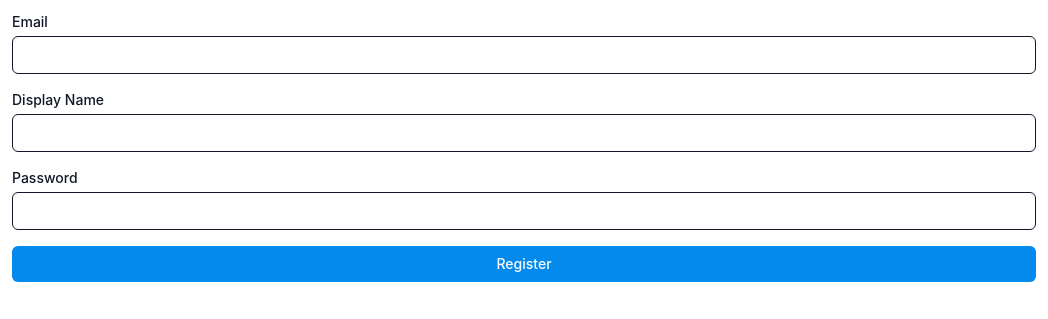
RegisterForm › shows error when password does not meet policy
Type "test@epam.com" into the field labelled "Email".
click(524, 55); type("test@epam.com")  # box [12,36,1036,74]
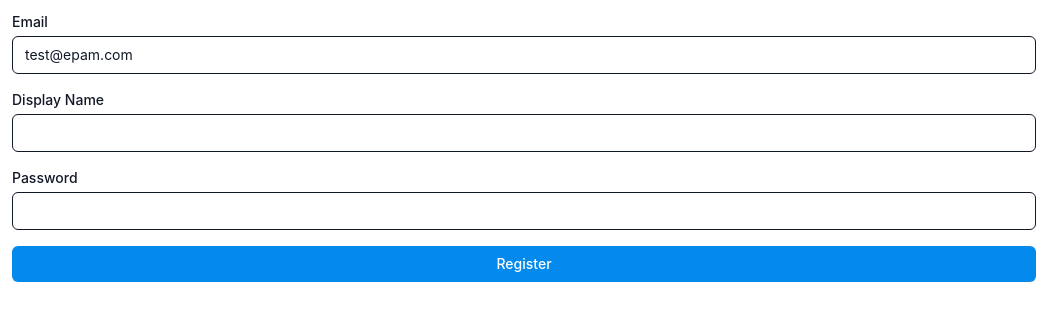
Type "Test User" into the field labelled "Display Name".
click(524, 133); type("Test User")  # box [12,114,1036,152]
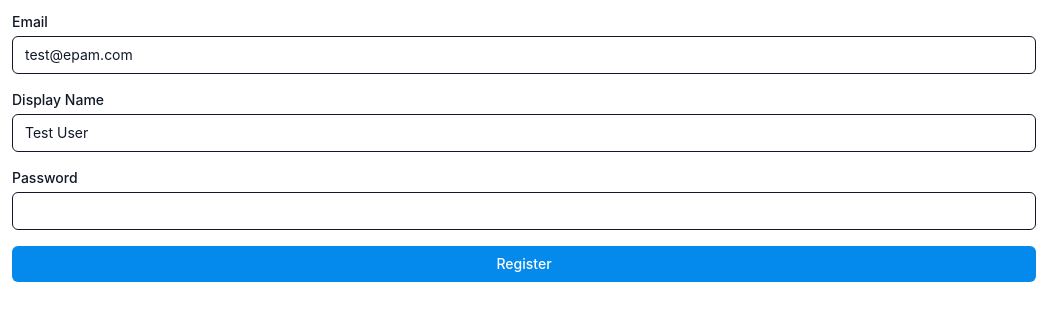
Type "weak" into the password field labelled "Password".
click(524, 211); type("weak")  # box [12,192,1036,230]
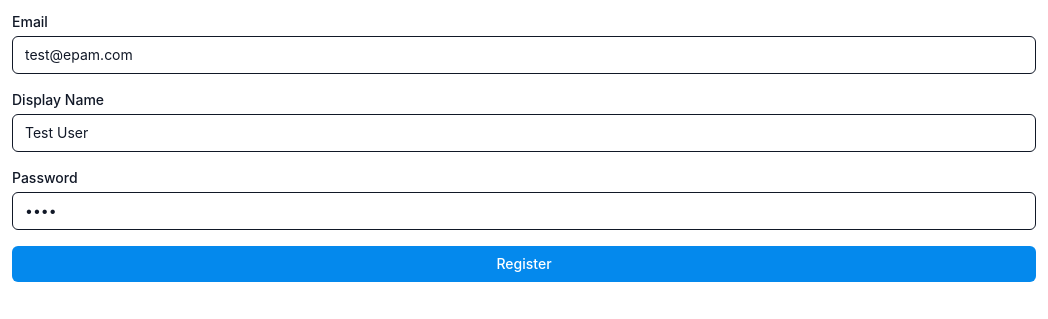
Click the button "Register".
click(524, 264)  # box [12,246,1036,282]
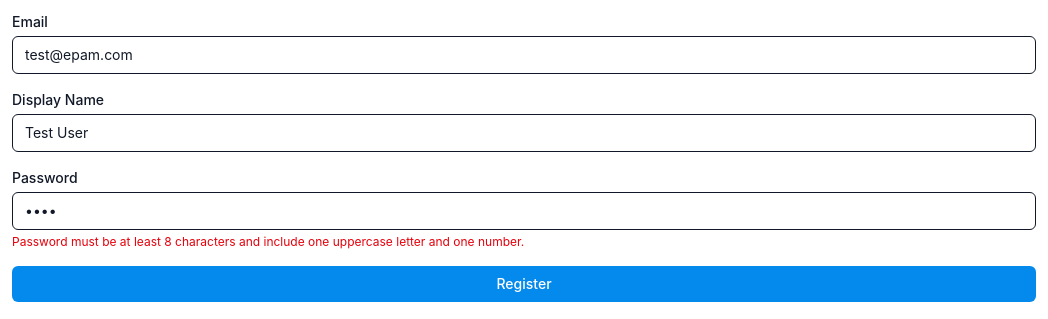
Result: the text "at least 8 characters" is shown at [12,234,524,249]
